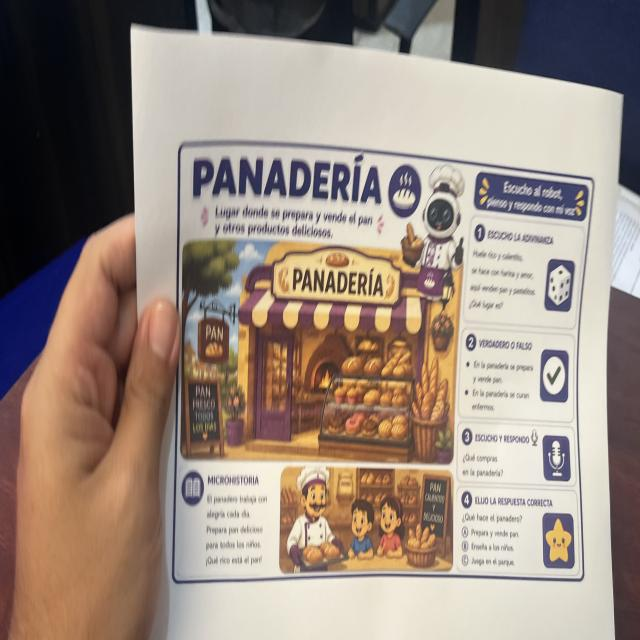panaderia: (169, 132, 598, 590)
